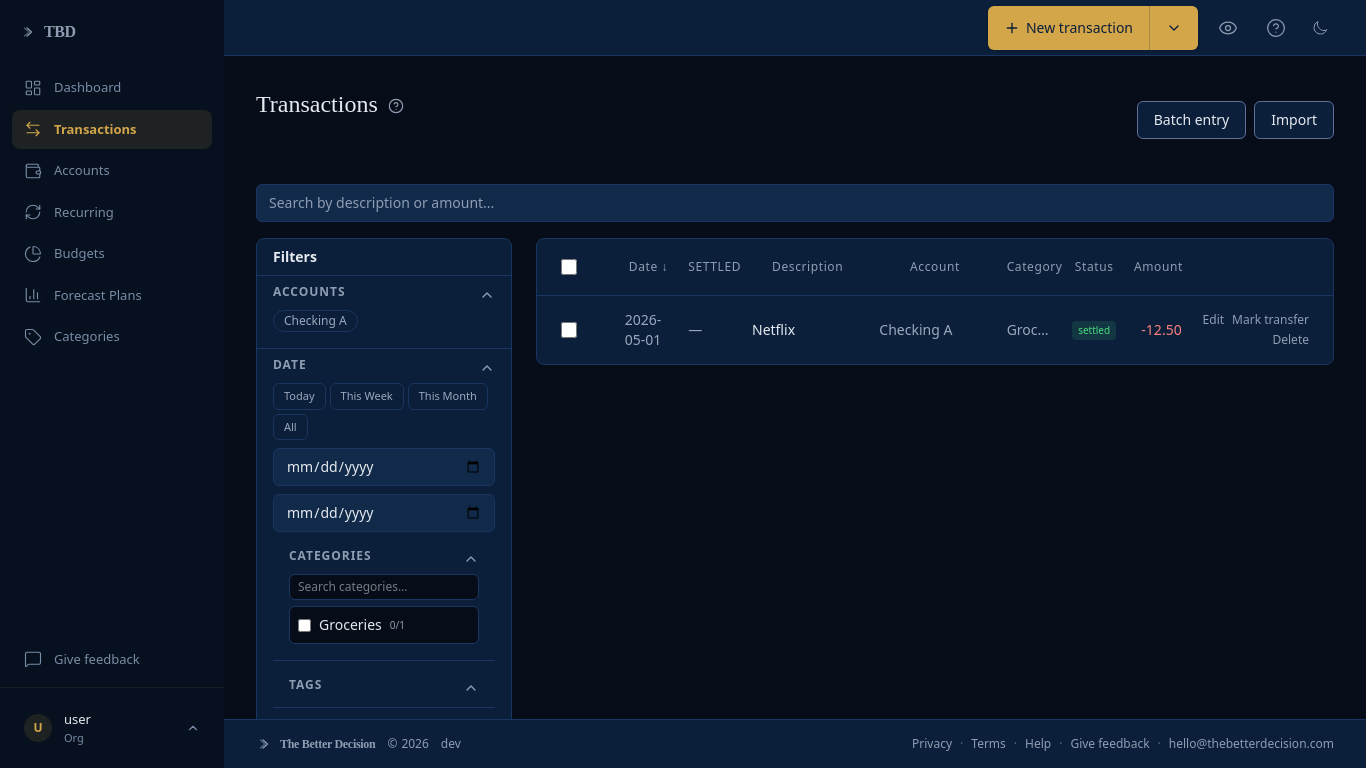
it: TransactionsPage — recurring edit sync hint › recurring row edit form: shows forward-sync hint next to the chip
What coordinates should you click on to do the following:
click the button with aria-label "Edit:"
I would click on:
 (1213, 320)
Its box is [1203,312,1224,328].
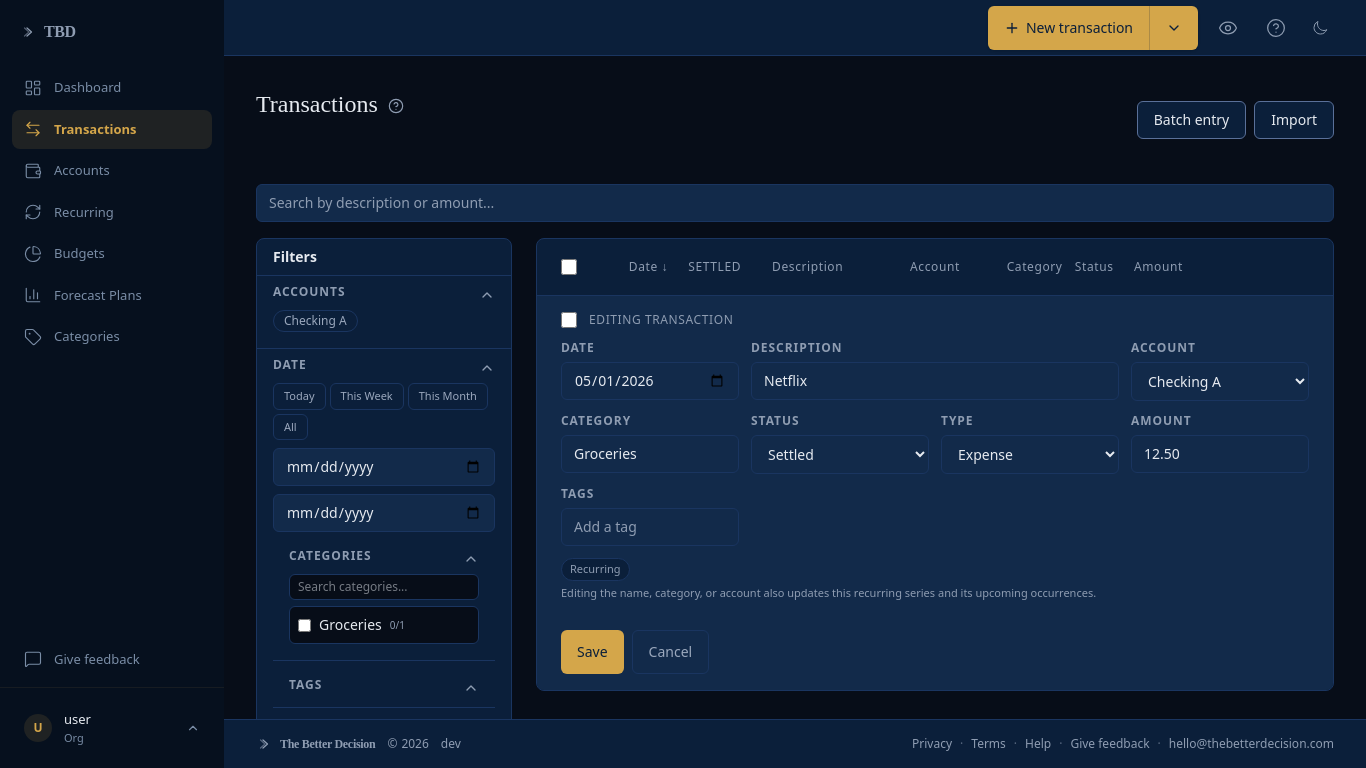
Check: the text with test id "edit-recurring-sync-hint-101" shows "Editing the name, category, or account also updates this recurring series and its upcoming occurrences.", box [561,584,1096,600]
Check: the text "Recurring" is shown, box [561,558,630,580]
